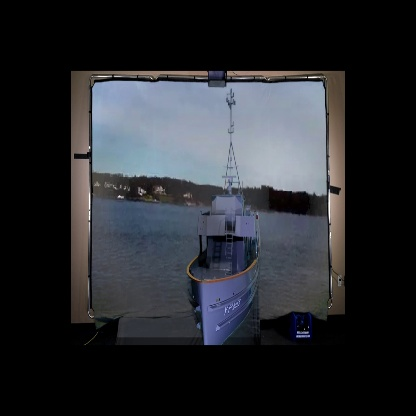YP689: (185, 88, 262, 345)
